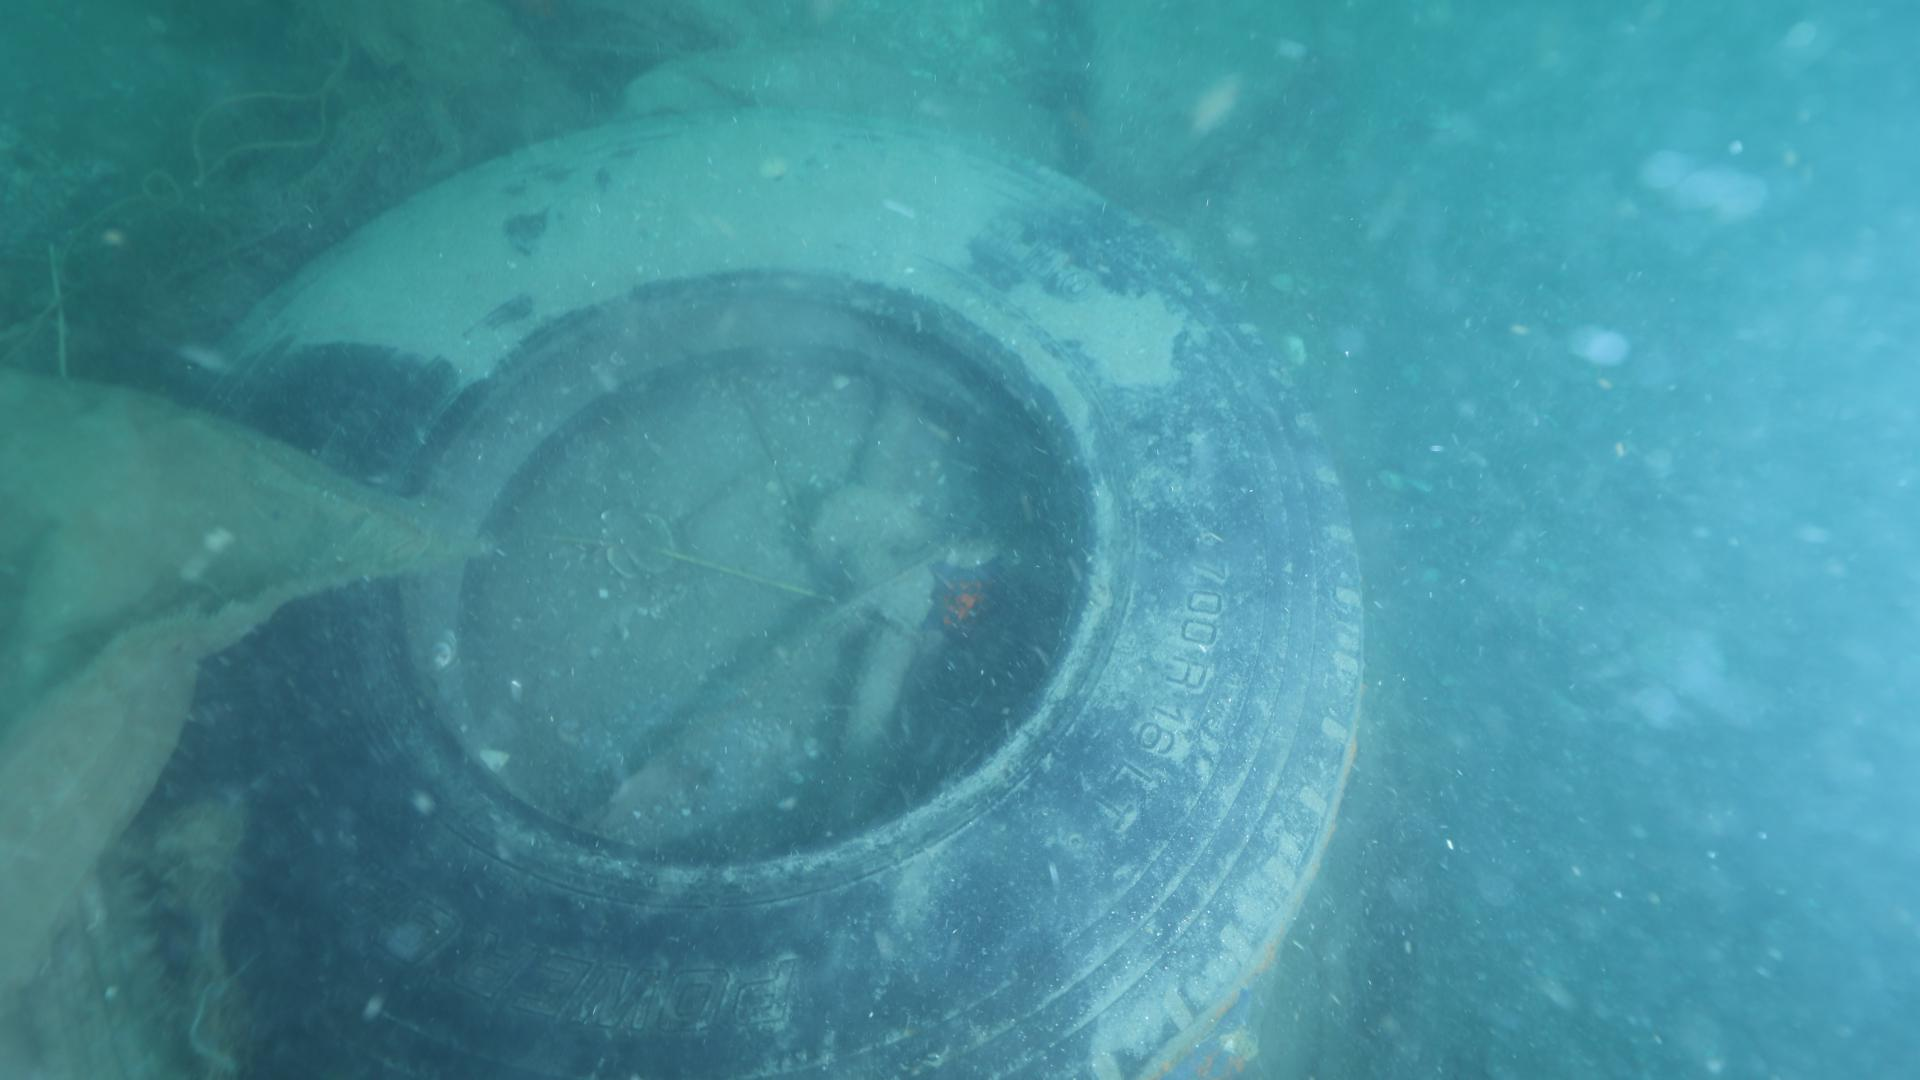tire: (169, 96, 1371, 1080)
